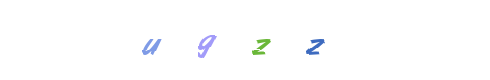G: (205, 0, 285, 80)
U: (156, 0, 236, 80)
Z: (221, 0, 301, 80), (275, 0, 355, 80)
